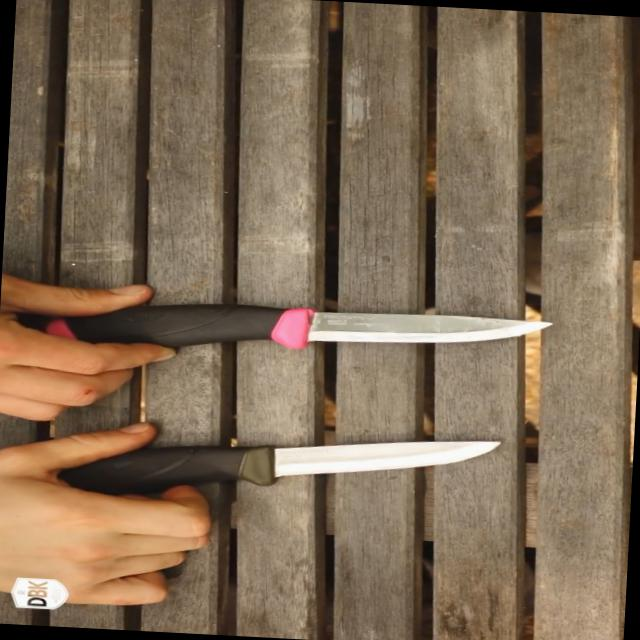knife: (206, 410, 520, 510), (244, 290, 566, 371)
